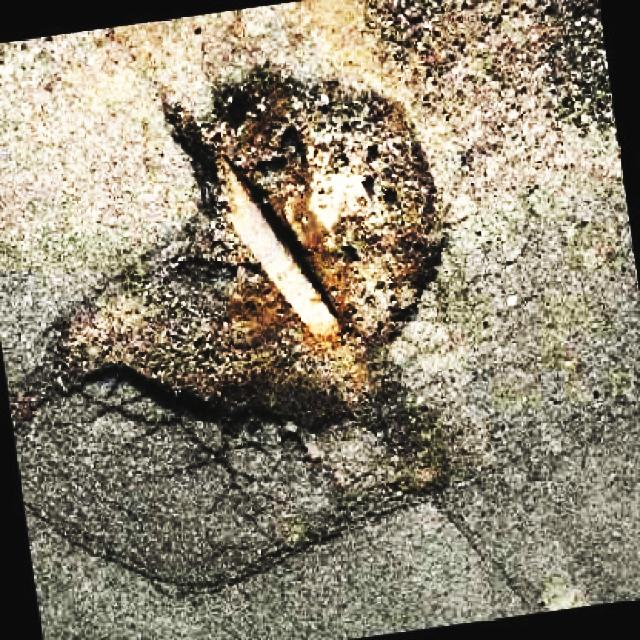pothole: (45, 65, 449, 446)
